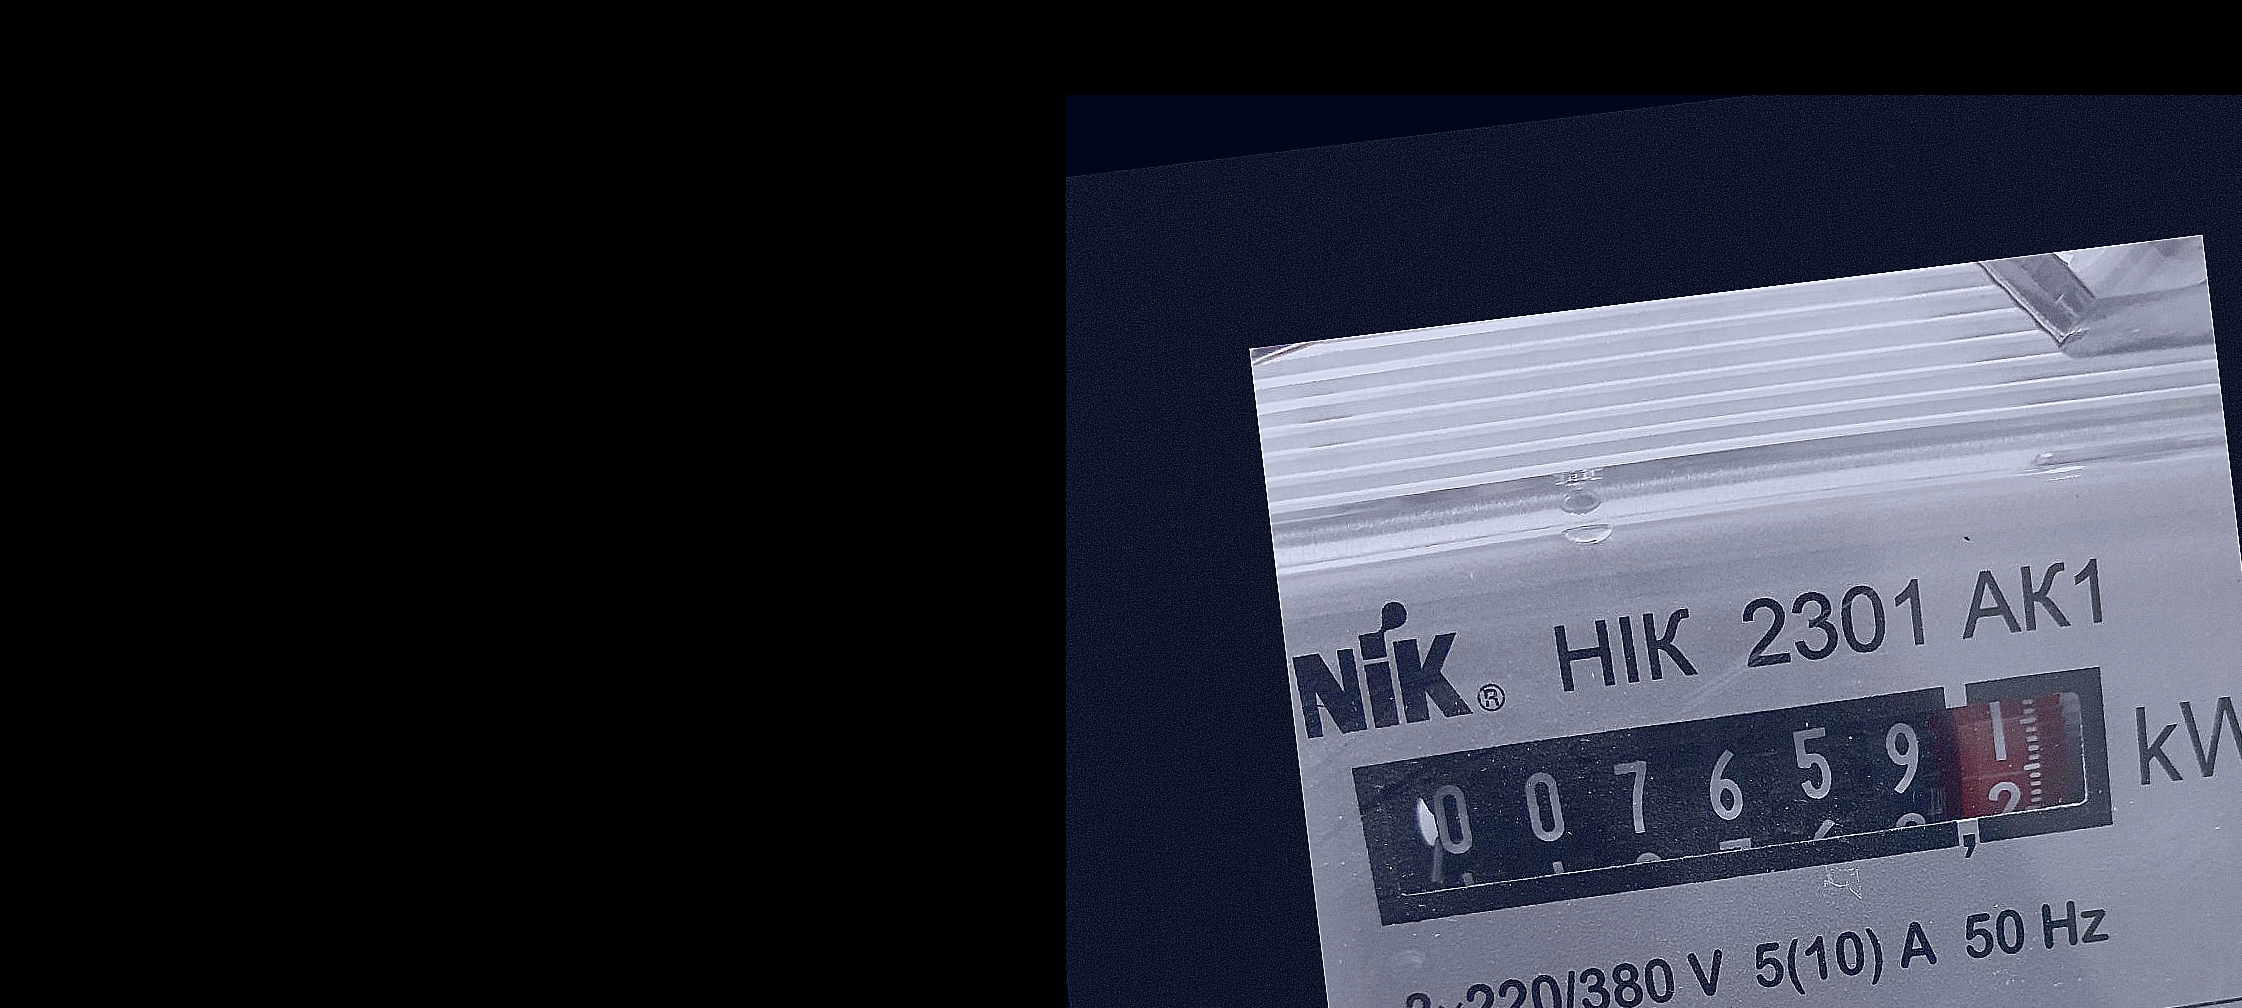0: (1510, 761, 1576, 852), (1423, 772, 1483, 868)
1: (1979, 693, 2020, 771)
5: (1784, 721, 1840, 806)
6: (1694, 741, 1754, 828)
7: (1607, 753, 1659, 844)
9: (1877, 713, 1930, 805)
screen: (1328, 643, 2143, 951)
